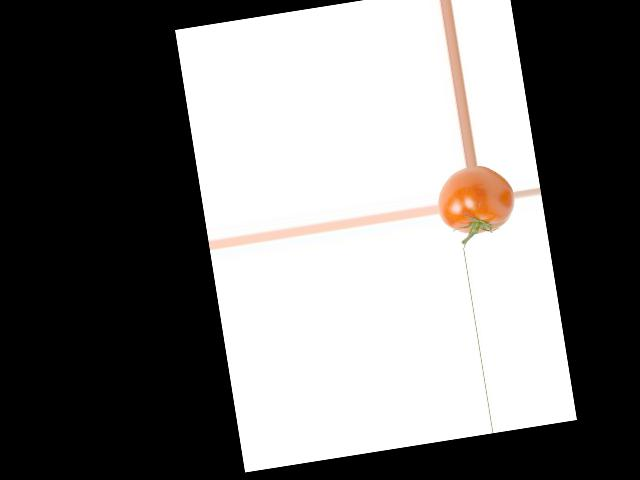tomato: (433, 161, 519, 239)
